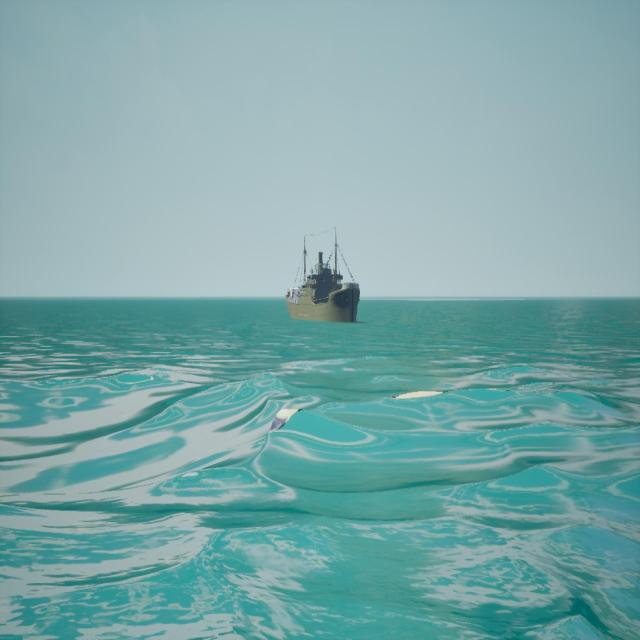fishing ship: (283, 230, 364, 324)
